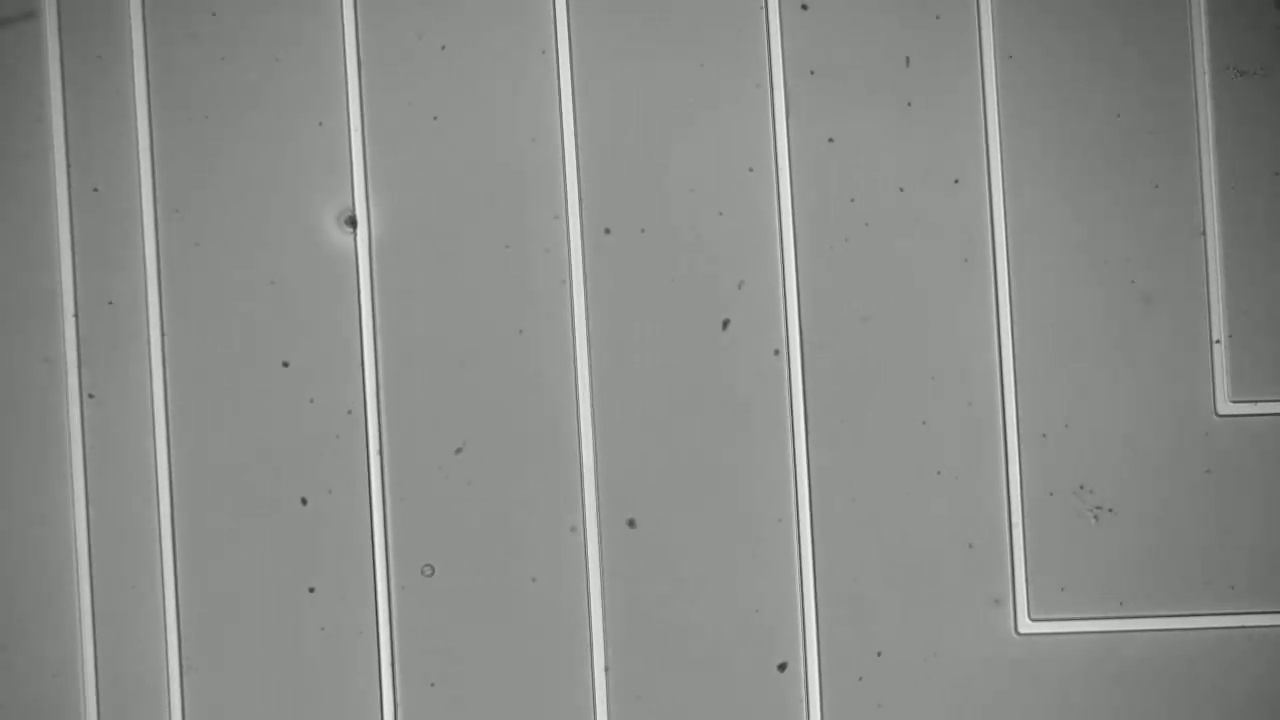stains_enbedded: (335, 199, 377, 239)
